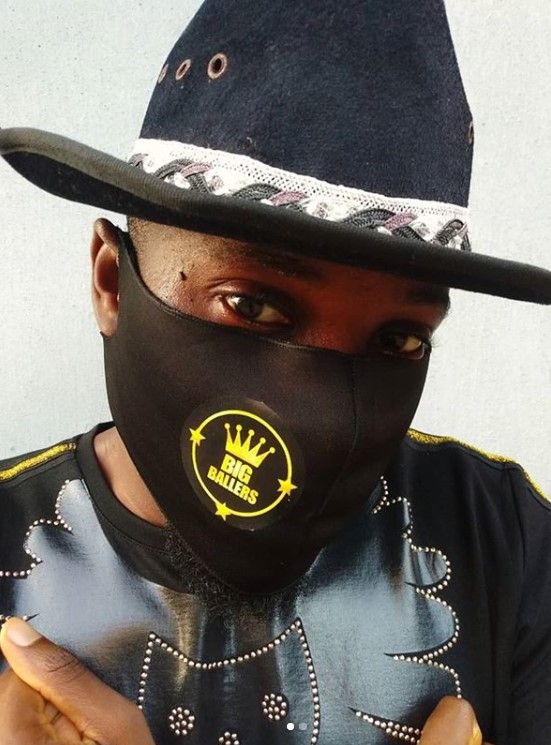face_with_mask: (90, 23, 475, 597)
